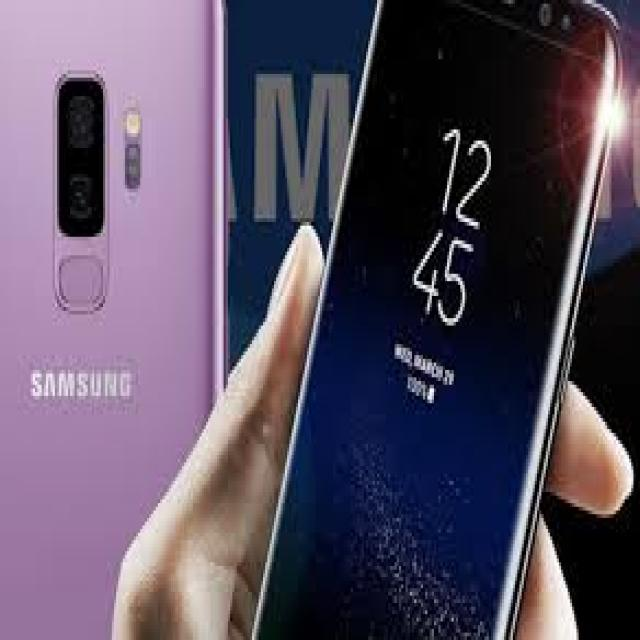mobile phone: (243, 0, 620, 636), (0, 0, 226, 636)
